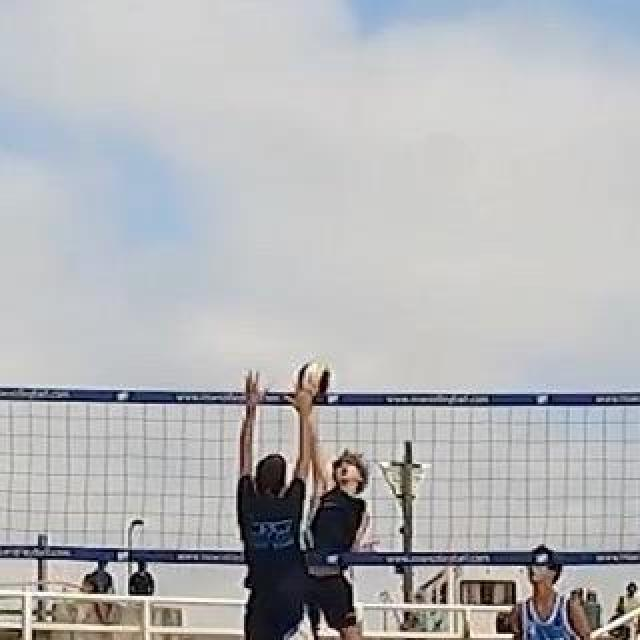volleyball: (295, 362, 329, 396)
